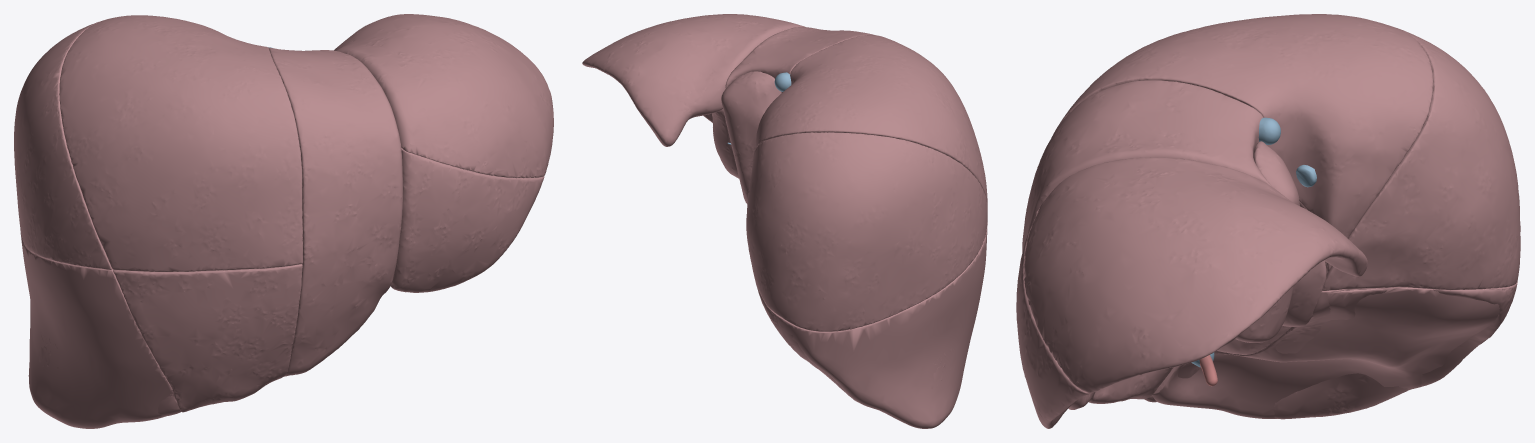
The picture shows the model from 3 angles, left to right: view 1: azimuth 30°, elevation 25°; view 2: azimuth 150°, elevation 25°; view 3: azimuth 270°, elevation 25°; orthographic projection. The views are drawn at different scales.
Parts seen in each view (by area): view 1: FJ2824, FJ2820, FJ2818, FJ2821, FJ2409, FJ2819, FJ2823, FJ2822; view 2: FJ2823, FJ2824, FJ2409, FJ2818, FJ2816, FJ2820, FJ2819, FJ2822; view 3: FJ2818, FJ2824, FJ2823, FJ2409, FJ2820, FJ2822, FJ2819, FJ2816, FJ2821, FJ3083.
Part boxes in pixels (left/top/right/bottom): FJ2824: left=59, top=15, right=302, bottom=271; FJ2820: left=268, top=47, right=402, bottom=376; FJ2818: left=334, top=14, right=553, bottom=178; FJ2821: left=113, top=264, right=302, bottom=412; FJ2409: left=20, top=233, right=174, bottom=428; FJ2819: left=390, top=148, right=544, bottom=292; FJ2823: left=14, top=20, right=112, bottom=269; FJ2822: left=37, top=332, right=181, bottom=416; FJ2823: left=746, top=132, right=987, bottom=331; FJ2824: left=755, top=35, right=987, bottom=204; FJ2409: left=763, top=222, right=987, bottom=428; FJ2818: left=582, top=14, right=804, bottom=146; FJ2816: left=721, top=71, right=781, bottom=203; FJ2820: left=725, top=27, right=875, bottom=92; FJ2819: left=703, top=109, right=738, bottom=178; FJ2822: left=756, top=285, right=953, bottom=401; FJ2818: left=1024, top=157, right=1367, bottom=393; FJ2824: left=1051, top=14, right=1433, bottom=272; FJ2823: left=1322, top=28, right=1520, bottom=290; FJ2409: left=1151, top=281, right=1517, bottom=418; FJ2820: left=1022, top=80, right=1271, bottom=409; FJ2822: left=1144, top=287, right=1515, bottom=419; FJ2819: left=1016, top=208, right=1236, bottom=428; FJ2816: left=1235, top=141, right=1326, bottom=342; FJ2821: left=1088, top=326, right=1291, bottom=403; FJ3083: left=1258, top=117, right=1280, bottom=144.
Bounding box in the file's own units: 1.8 × 1.33 × 1.37.
